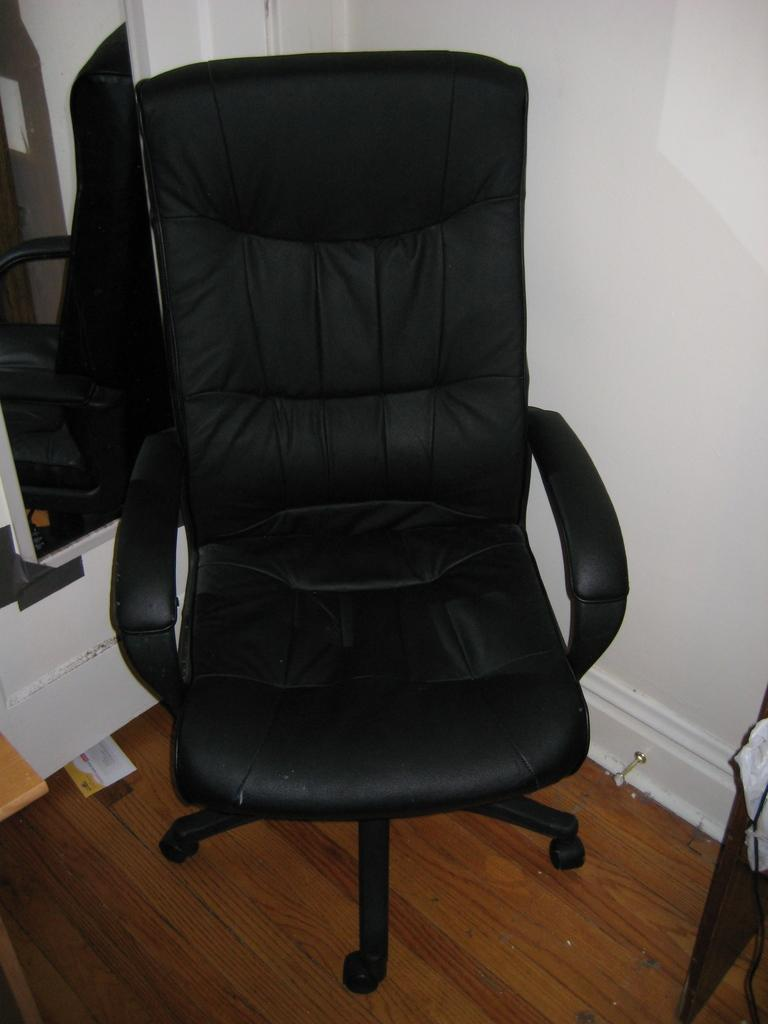Chair: (108, 50, 631, 998)
